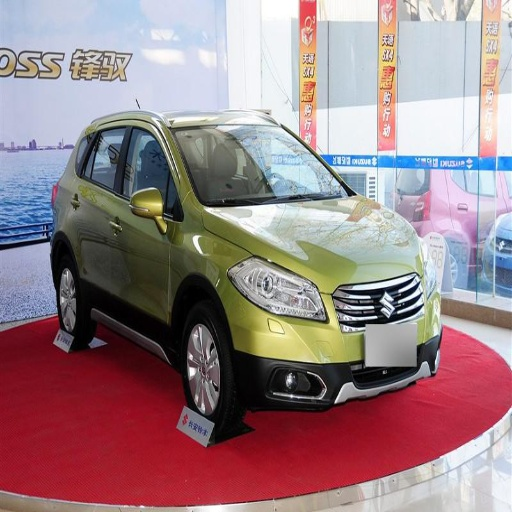front_bumper: (228, 277, 443, 410)
front_right_door: (112, 120, 178, 330)
front_right_light: (229, 257, 330, 323)
